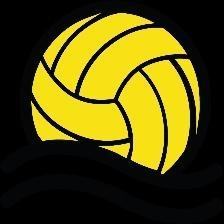Sports-Ball: (33, 12, 199, 182)
